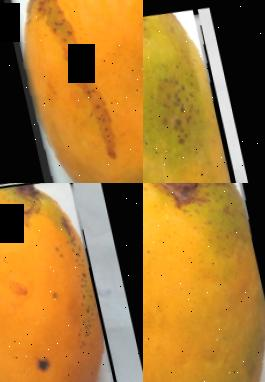PartiallyRipe: (143, 183, 265, 382), (143, 0, 265, 183)
Ripe: (0, 0, 143, 183), (0, 183, 127, 382)
